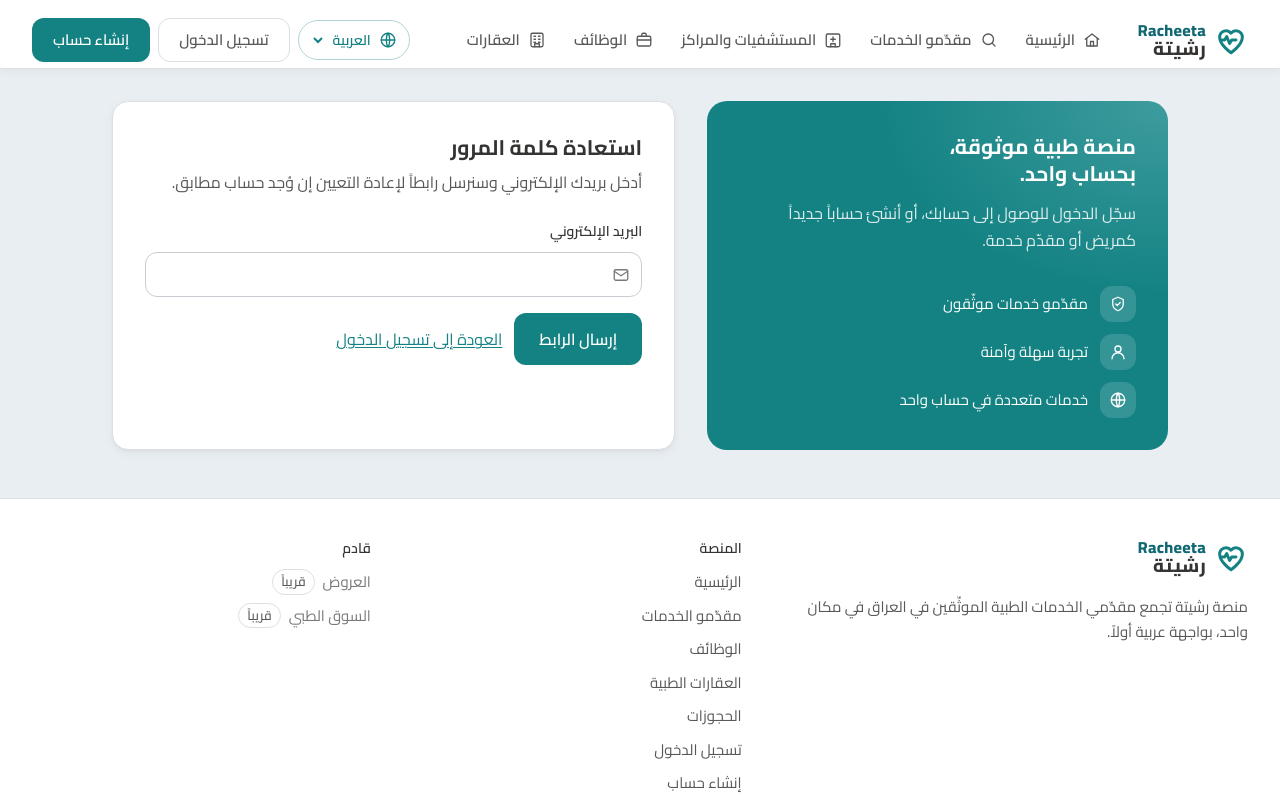
Test: ForgotPasswordPage › validates the email on the client
Click the button "إرسال الرابط".
click(578, 340)  # box x1=514 y1=314 x2=642 y2=366
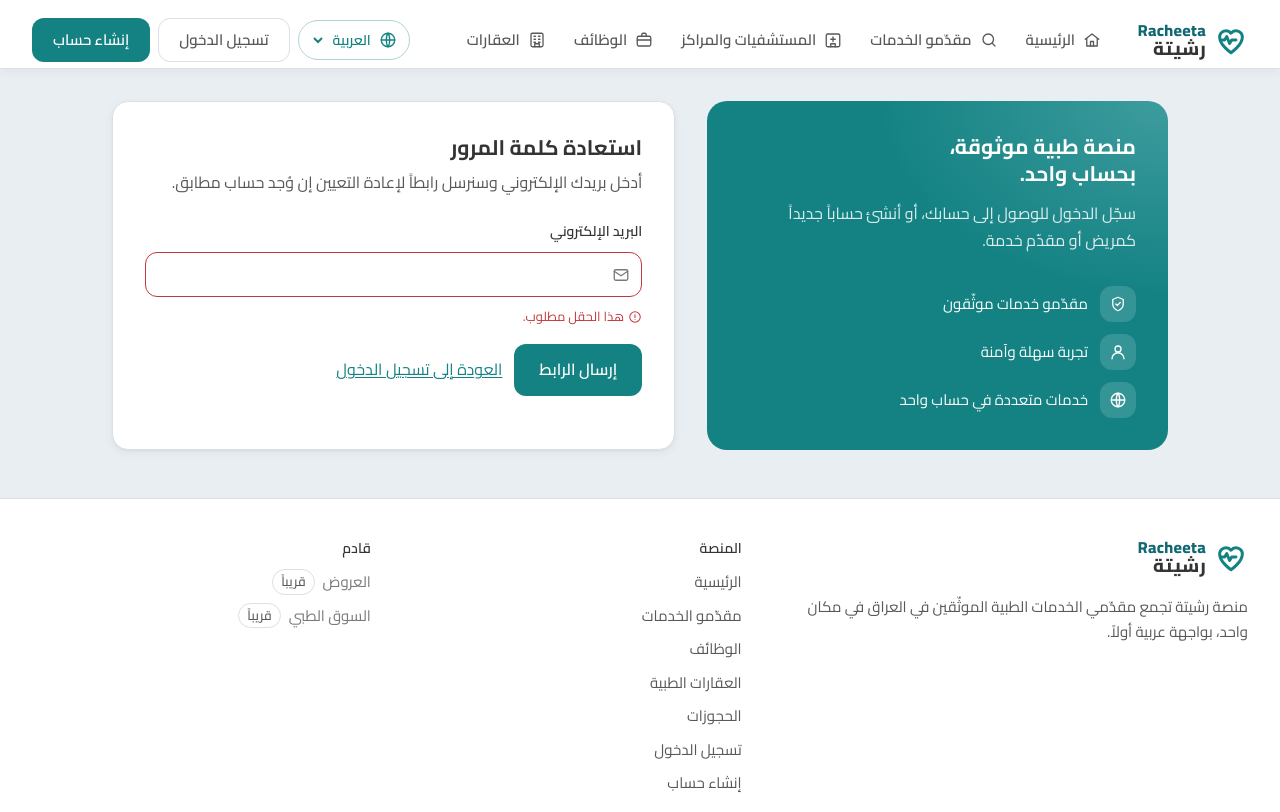
Now the message "هذا الحقل مطلوب." is shown, box x1=523 y1=304 x2=642 y2=328
